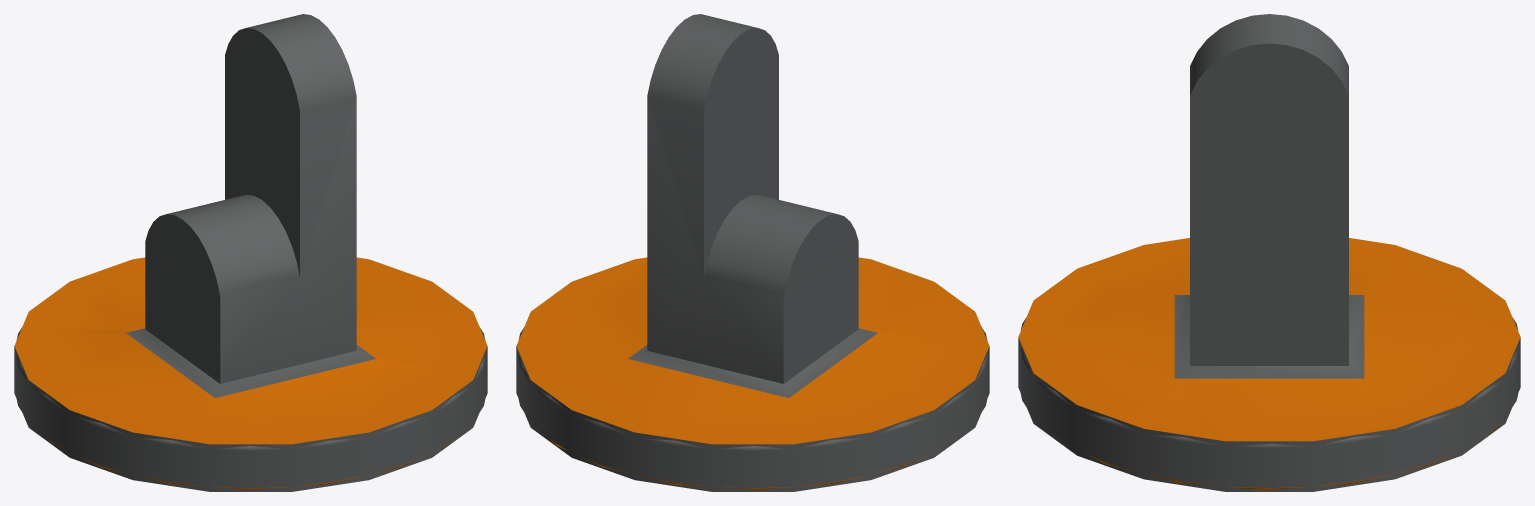
The model's file is xfoot.fbx.
The picture shows the model from 3 angles, left to right: view 1: azimuth 30°, elevation 25°; view 2: azimuth 150°, elevation 25°; view 3: azimuth 270°, elevation 25°; orthographic projection. The views are drawn at different scales.
Parts seen in each view (by area): view 1: xfoot_LOD0, xfoot_col; view 2: xfoot_LOD0, xfoot_col; view 3: xfoot_col, xfoot_LOD0.
Boxes of the visible parts, x1,y1,x2,y2 form: xfoot_LOD0: [14, 14, 487, 489]; xfoot_col: [14, 28, 487, 491]; xfoot_LOD0: [516, 14, 989, 489]; xfoot_col: [516, 33, 989, 491]; xfoot_col: [1018, 43, 1520, 491]; xfoot_LOD0: [1018, 14, 1520, 490].
Size of what is drawn, in the model's own units: 36 by 30 by 36.
